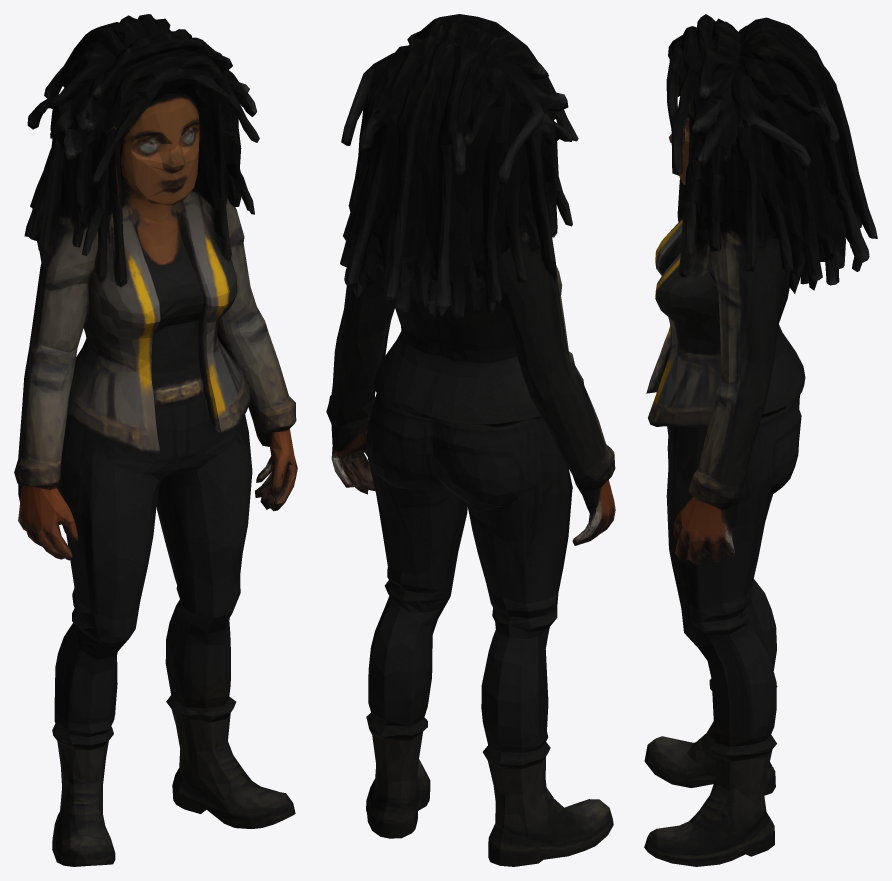
Rendered from dreads.glb.
3 views of the same model, side by side, from view 1: azimuth 30°, elevation 25°; view 2: azimuth 150°, elevation 25°; view 3: azimuth 270°, elevation 25° (orthographic).
Visible parts, largest first — view 1: world; view 2: world; view 3: world.
Part boxes in pixels (x1,y1,x2,y2): world: [14, 14, 297, 866]; world: [326, 14, 615, 866]; world: [644, 14, 877, 866].
Size of the model in its own units: 0.363 by 1 by 0.2676.
Materials: 1 (1 with a texture image).
